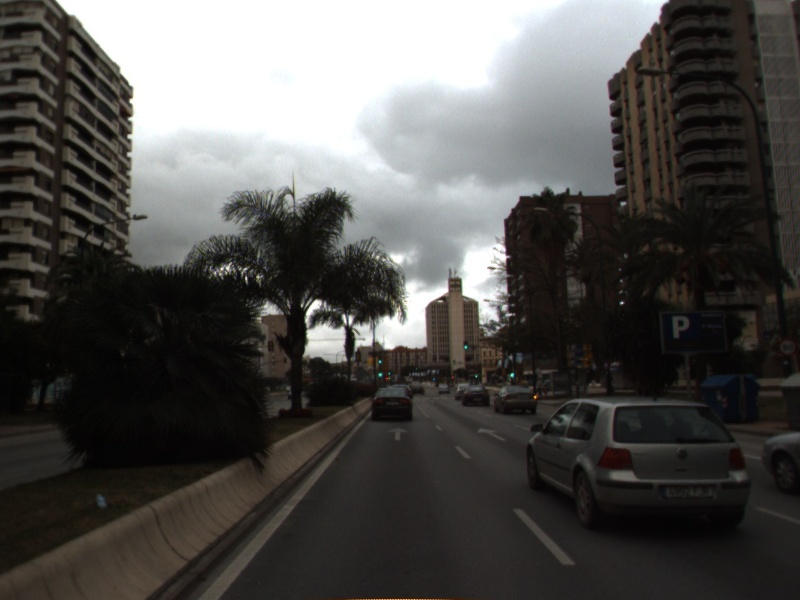STRAIGHT: (475, 425, 509, 443), (385, 425, 411, 442)
